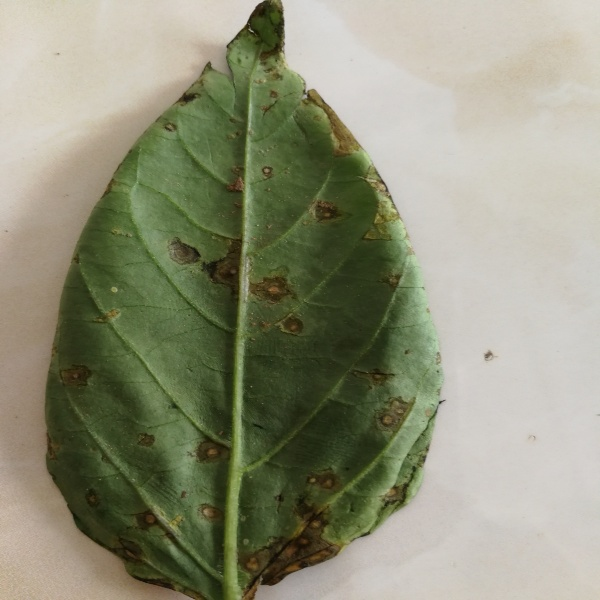Anthrax: (169, 168, 343, 337), (55, 368, 224, 530), (242, 468, 341, 599), (348, 366, 428, 514), (224, 1, 298, 103), (158, 88, 203, 136)
